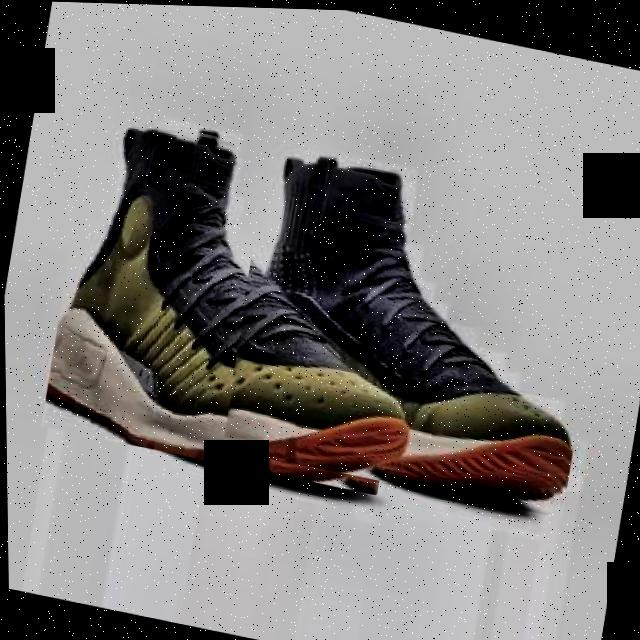shoe: (36, 103, 451, 498), (213, 140, 614, 516)
